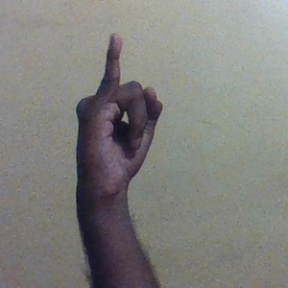I: (74, 32, 167, 194)
